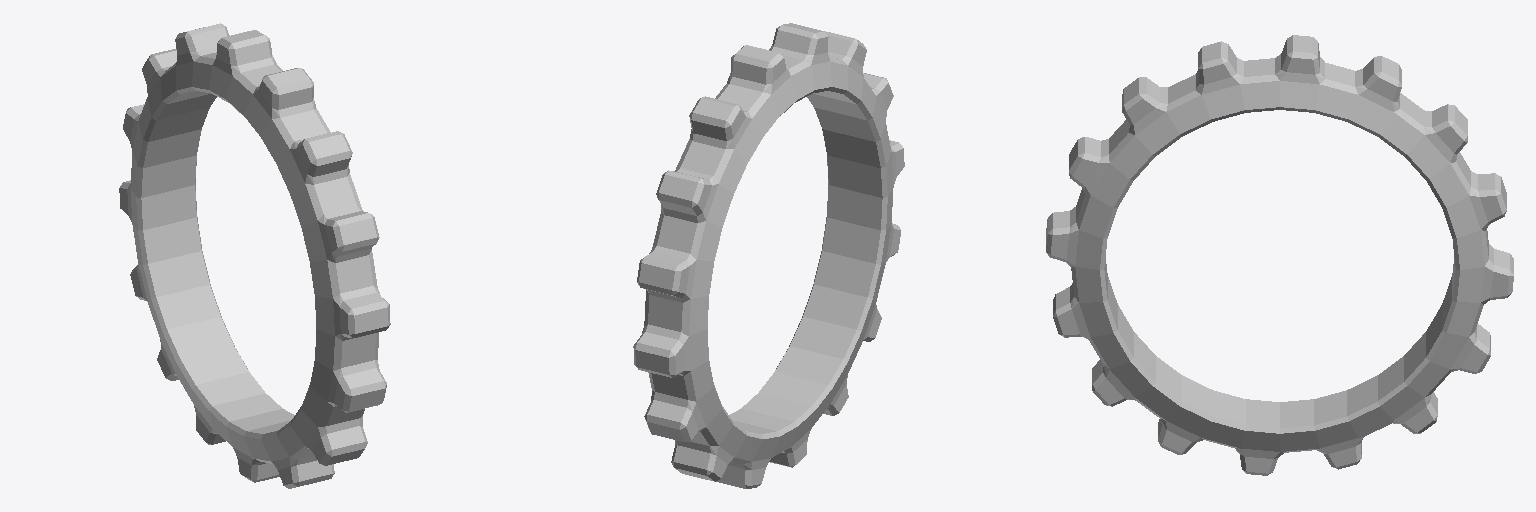
Rendered from Gear.obj.
3 views of the same model, side by side, from view 1: azimuth 30°, elevation 25°; view 2: azimuth 150°, elevation 25°; view 3: azimuth 270°, elevation 25° (orthographic).
Visible parts, largest first — view 1: Окружность; view 2: Окружность; view 3: Окружность.
Part boxes in pixels (x1,y1,x2,y2): Окружность: (119, 23, 390, 488); Окружность: (633, 23, 904, 488); Окружность: (1046, 35, 1513, 475).
Bounding box in the file's own units: 0.3276 × 2.24 × 2.24.